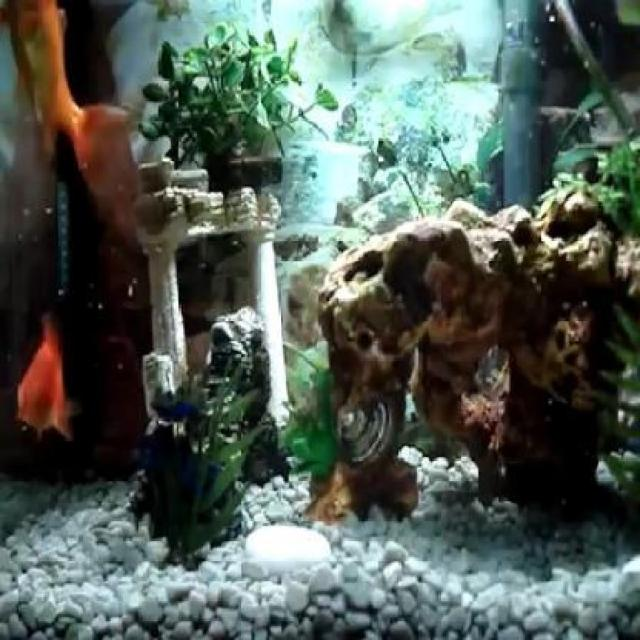GoldFish: (12, 315, 74, 439)
